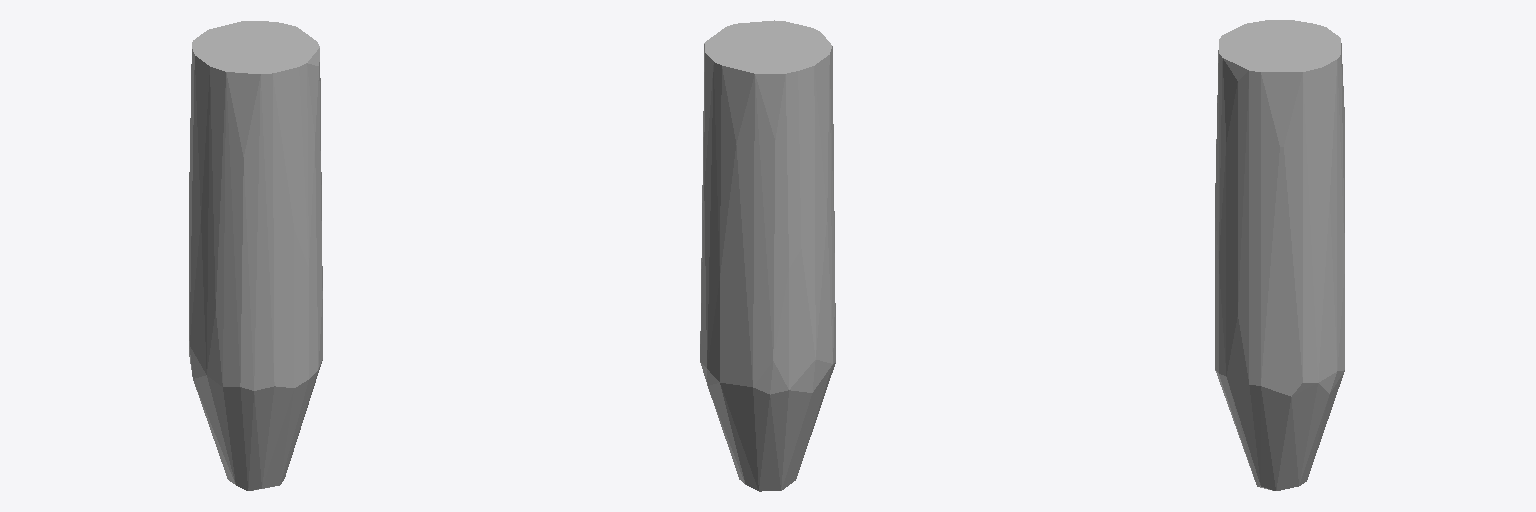
robot.urdf — root:
<robot name="root">
  <link name="link_e6f95cfb9825c0f65070edcf21eb751c_convex_piece_0">
    <inertial>
      <origin rpy="0 0 0" xyz="0 0 0"/>
      <mass value="2.07E-04"/>
      <inertia ixx="4.05E-07" ixy="-3.81E-11" ixz="5.52E-11" iyy="4.05E-07" iyz="1.38E-10" izz="5.24E-08"/>
    </inertial>
    <visual>
      <origin rpy="0 0 0" xyz="0 0 0"/>
      <geometry>
        <mesh filename="e6f95cfb9825c0f65070edcf21eb751c_convex_piece_0.obj" scale="1.0000E+00"/>
      </geometry>
      <material name="">
        <color rgba="7.50E-01 7.50E-01 7.50E-01 1"/>
      </material>
    </visual>
    <collision>
      <origin rpy="0 0 0" xyz="0 0 0"/>
      <geometry>
        <mesh filename="e6f95cfb9825c0f65070edcf21eb751c_convex_piece_0.obj" scale="1.0000E+00"/>
      </geometry>
    </collision>
  </link>
</robot>

--- What the picture shows (computed from the rendered views, not written in the file) ---
Views: 3 orthographic renders of the robot side by side, from view 1: azimuth 30°, elevation 25°; view 2: azimuth 150°, elevation 25°; view 3: azimuth 270°, elevation 25°.
Robot: root — 1 links, 0 joints (none); root link link_e6f95cfb9825c0f65070edcf21eb751c_convex_piece_0; default pose: all joints at 0.
Visible links, largest first — view 1: link_e6f95cfb9825c0f65070edcf21eb751c_convex_piece_0; view 2: link_e6f95cfb9825c0f65070edcf21eb751c_convex_piece_0; view 3: link_e6f95cfb9825c0f65070edcf21eb751c_convex_piece_0.
Link boxes in pixels (box(x1,y1,x2,y2)): link_e6f95cfb9825c0f65070edcf21eb751c_convex_piece_0: box(189, 21, 322, 490); link_e6f95cfb9825c0f65070edcf21eb751c_convex_piece_0: box(700, 20, 835, 491); link_e6f95cfb9825c0f65070edcf21eb751c_convex_piece_0: box(1215, 20, 1344, 490).
Size in the robot's own frame: 0.0459 by 0.0459 by 0.1689 metres.
Meshes: 1 distinct files referenced, 1 mesh visuals loaded (1 OBJ).